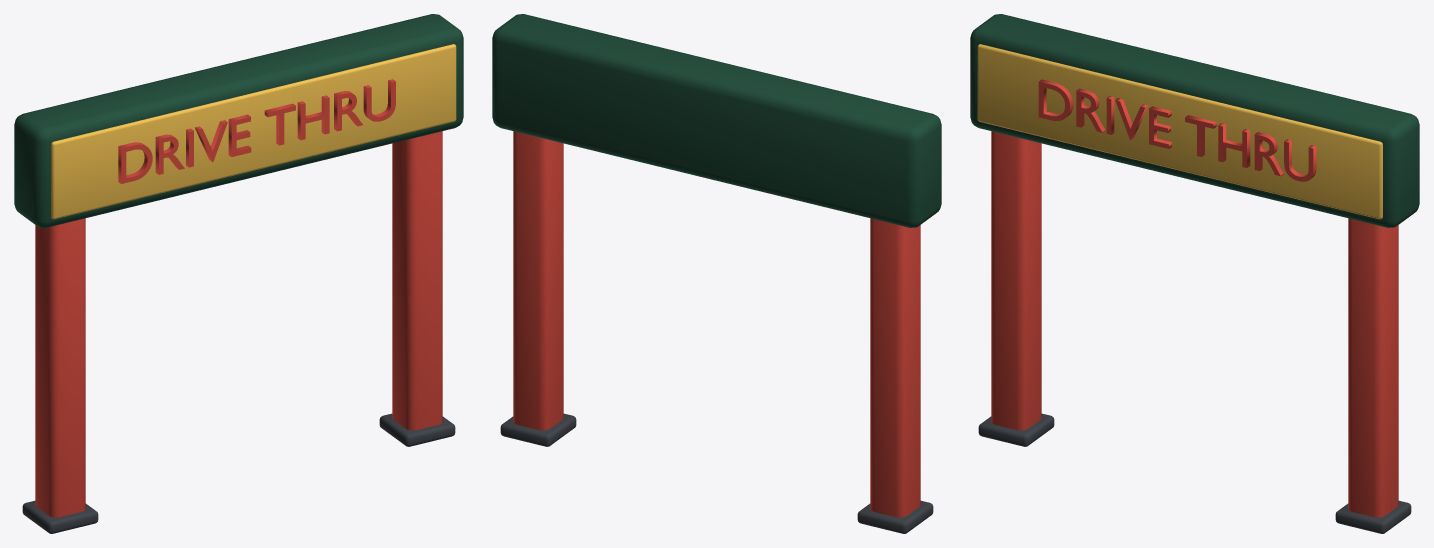
The model's file is prop_drive_thru_arch.glb.
The picture shows the model from 3 angles, left to right: view 1: azimuth 30°, elevation 25°; view 2: azimuth 150°, elevation 25°; view 3: azimuth 330°, elevation 25°; orthographic projection.
Parts seen in each view (by area): view 1: drive_thru_arch; view 2: drive_thru_arch; view 3: drive_thru_arch.
Boxes of the visible parts, box(x1,y1,x2,y2) form: drive_thru_arch: box(14, 14, 463, 533); drive_thru_arch: box(492, 14, 941, 533); drive_thru_arch: box(970, 14, 1419, 533).
Size of the model in its own units: 3.6 by 3.25 by 0.49.
